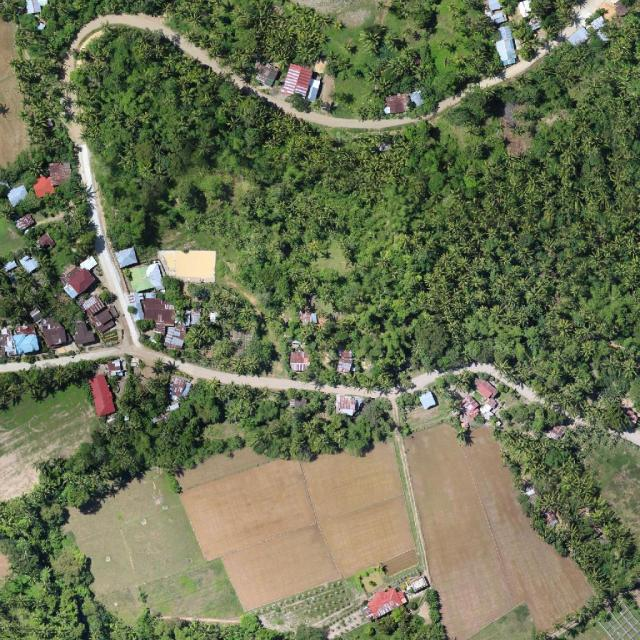agricultural_land: (178, 430, 425, 619), (56, 460, 248, 640), (0, 20, 29, 166)
building: (0, 179, 119, 362), (121, 245, 217, 351), (399, 374, 505, 443), (321, 582, 410, 639)
greenland: (71, 0, 503, 110)
unmetalled_road: (36, 334, 379, 401), (58, 119, 145, 353), (64, 11, 230, 78), (265, 89, 414, 144), (469, 357, 541, 404), (464, 55, 538, 97), (434, 87, 470, 113), (409, 366, 440, 393), (321, 75, 335, 101), (0, 361, 31, 372)
